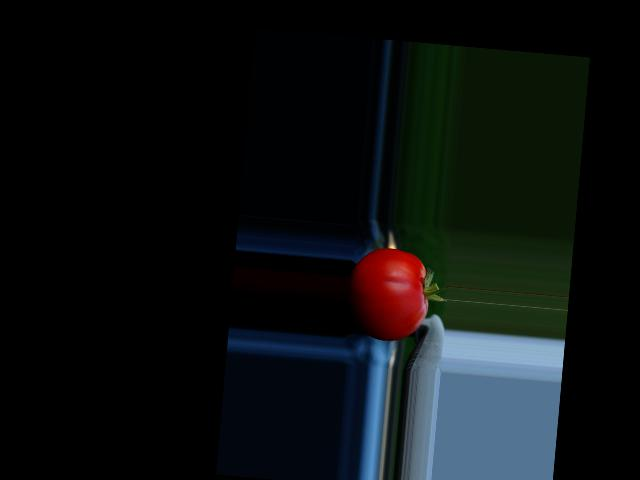tomato: (344, 244, 432, 343)
